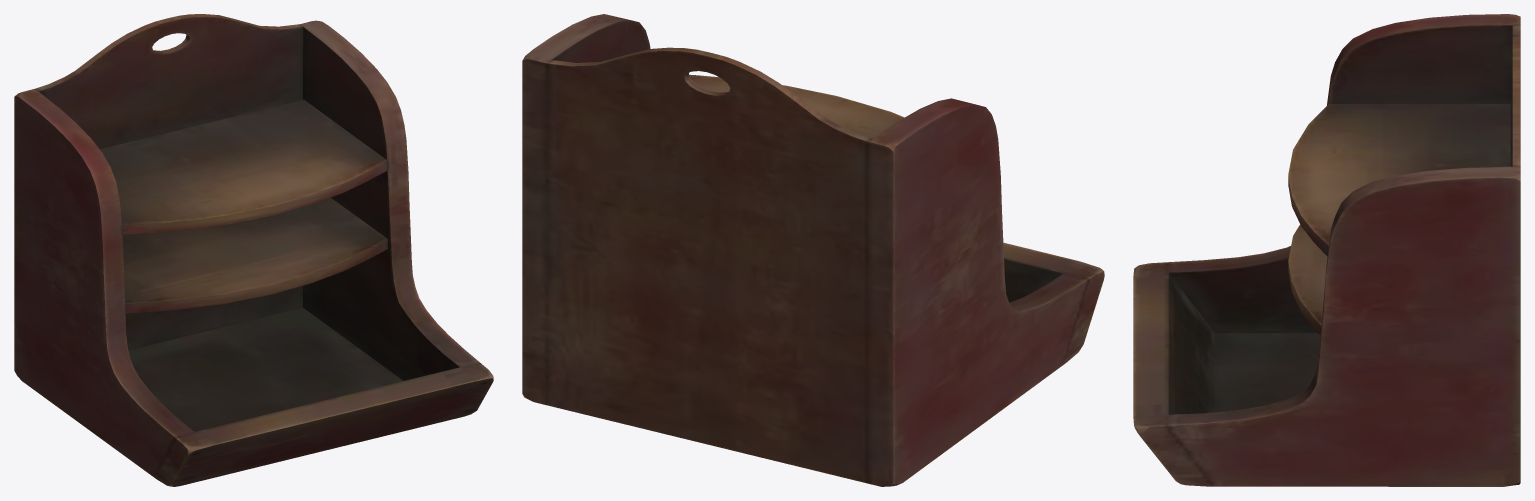
File: ph-painted-wooden-shelves.glb
3 views of the same model, side by side, from view 1: azimuth 30°, elevation 25°; view 2: azimuth 150°, elevation 25°; view 3: azimuth 270°, elevation 25° (orthographic). The views are drawn at different scales.
Visible parts, largest first — view 1: painted_wooden_shelves; view 2: painted_wooden_shelves; view 3: painted_wooden_shelves.
Boxes of the visible parts, <box> form: painted_wooden_shelves: <box>14,14,493,486</box>; painted_wooden_shelves: <box>522,14,1104,486</box>; painted_wooden_shelves: <box>1133,14,1520,486</box>.
Bounding box in the file's own units: 1 × 1 × 1.
1 material, 1 textured.
